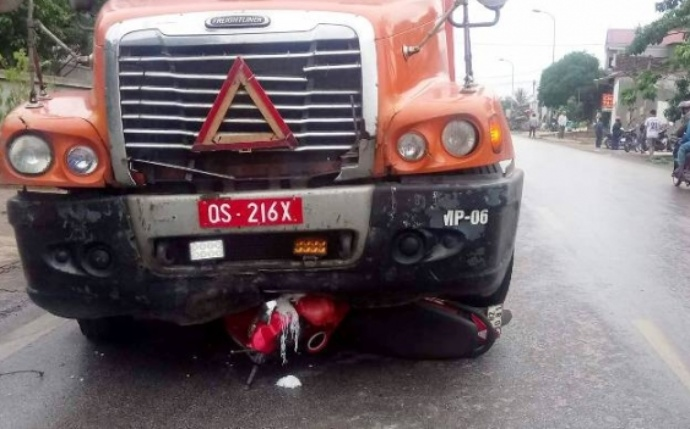plate: (194, 192, 308, 234)
